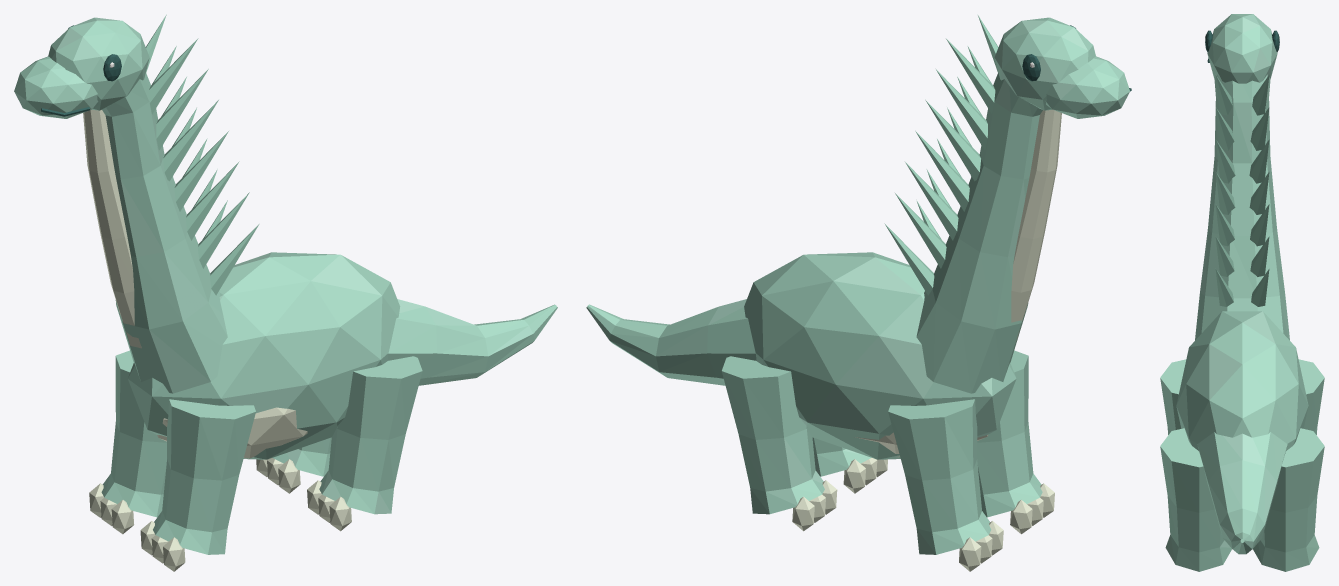
File: amargasaurus.glb
3 renders of one model, left to right at view 1: azimuth 30°, elevation 25°; view 2: azimuth 150°, elevation 25°; view 3: azimuth 270°, elevation 25°, orthographic. The views are drawn at different scales.
Parts seen in each view (by area): view 1: Body, Long curved neck, Rounded leg, Rounded leg.002, Tapered tail, Rounded leg.001, Head, Cream throat, Soft snout, Ivory belly, Rounded leg.003, Neck sail spine.008 (+6 smaller); view 2: Body, Long curved neck, Rounded leg.001, Rounded leg.003, Tapered tail, Rounded leg, Head, Cream throat, Soft snout, Rounded leg.002, Neck sail spine.009, Neck sail spine.007 (+5 smaller); view 3: Body, Long curved neck, Tapered tail, Rounded leg.002, Rounded leg.003, Head, Rounded leg, Rounded leg.001, Neck sail spine.008, Neck sail spine.009, Neck sail spine.006, Neck sail spine.007 (+10 smaller).
Part boxes in pixels (bbox=[...]): Body: bbox=[127, 252, 400, 459]; Long curved neck: bbox=[102, 73, 227, 393]; Rounded leg: bbox=[153, 399, 255, 554]; Rounded leg.002: bbox=[319, 356, 422, 514]; Tapered tail: bbox=[388, 299, 557, 385]; Rounded leg.001: bbox=[101, 350, 166, 517]; Head: bbox=[48, 17, 149, 110]; Cream throat: bbox=[83, 109, 141, 348]; Soft snout: bbox=[14, 56, 98, 118]; Ivory belly: bbox=[157, 407, 307, 458]; Rounded leg.003: bbox=[272, 437, 331, 476]; Neck sail spine.008: bbox=[163, 100, 218, 181]; Body: bbox=[744, 252, 1016, 459]; Long curved neck: bbox=[916, 73, 1042, 393]; Rounded leg.001: bbox=[888, 399, 991, 554]; Rounded leg.003: bbox=[721, 356, 824, 514]; Tapered tail: bbox=[586, 299, 756, 385]; Rounded leg: bbox=[977, 350, 1042, 517]; Head: bbox=[994, 17, 1095, 110]; Cream throat: bbox=[1011, 109, 1061, 342]; Soft snout: bbox=[1045, 56, 1129, 118]; Rounded leg.002: bbox=[812, 437, 871, 476]; Neck sail spine.009: bbox=[925, 99, 980, 181]; Neck sail spine.007: bbox=[915, 131, 969, 211]; Body: bbox=[1176, 311, 1308, 450]; Long curved neck: bbox=[1195, 74, 1289, 340]; Tapered tail: bbox=[1197, 432, 1287, 554]; Rounded leg.002: bbox=[1160, 428, 1231, 571]; Rounded leg.003: bbox=[1253, 428, 1324, 571]; Head: bbox=[1207, 14, 1277, 83]; Rounded leg: bbox=[1160, 359, 1186, 434]; Rounded leg.001: bbox=[1298, 359, 1324, 434]; Neck sail spine.008: bbox=[1215, 139, 1235, 183]; Neck sail spine.009: bbox=[1249, 139, 1269, 183]; Neck sail spine.006: bbox=[1215, 172, 1235, 214]; Neck sail spine.007: bbox=[1249, 172, 1269, 214].
Size of the model in its own units: 3.87 by 3.68 by 1.22.
